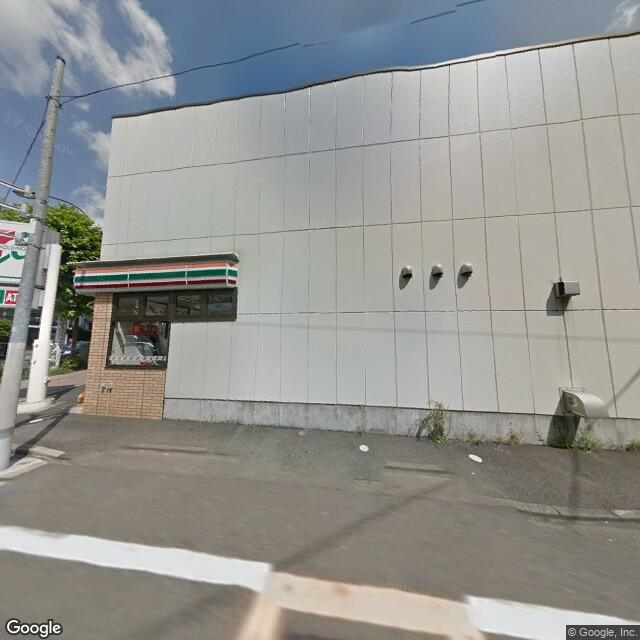7-eleven: (70, 253, 242, 306), (1, 221, 38, 293)
